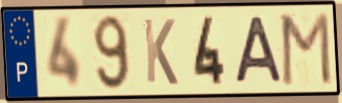4: (44, 13, 85, 95), (191, 14, 227, 87)
9: (90, 13, 132, 93)
A: (233, 14, 285, 86)
K: (141, 16, 180, 88)
M: (280, 10, 334, 88)
